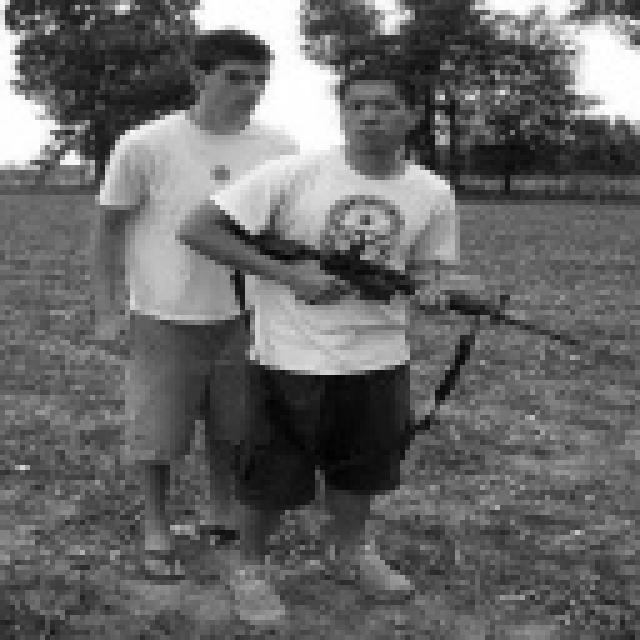Rifle: (235, 200, 608, 445)
